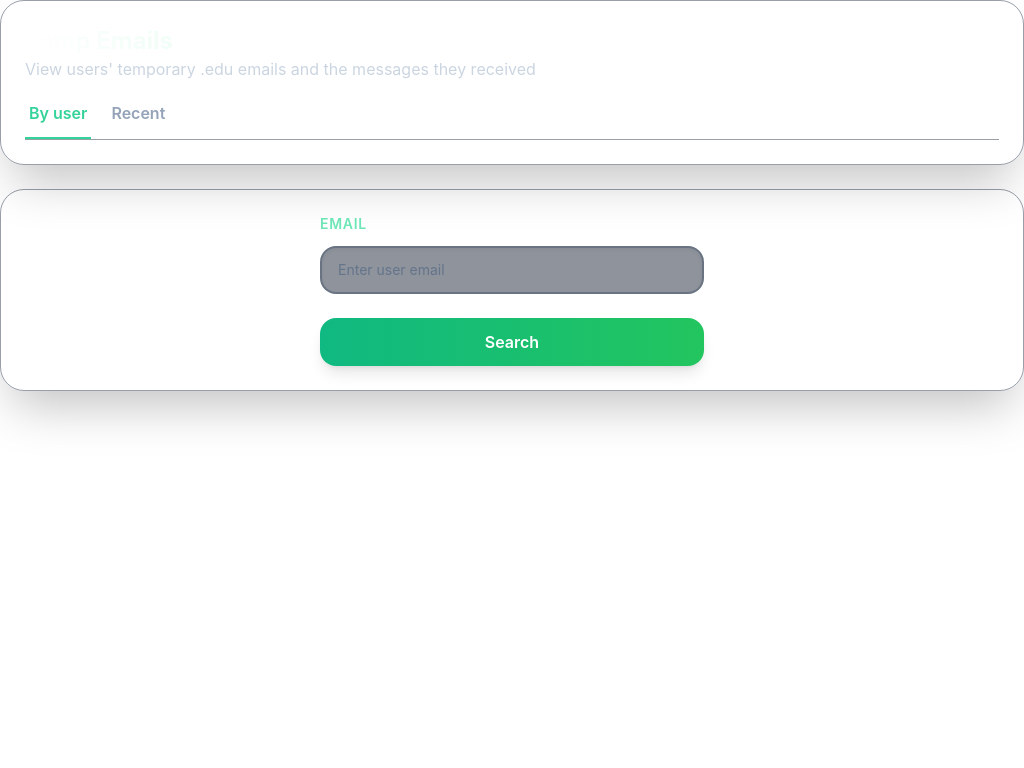
it: By user › expired and unavailable inboxes say why there are no messages
Type "student@example.com" into the field labelled "Email" at [512, 270], box x1=320 y1=246 x2=704 y2=294
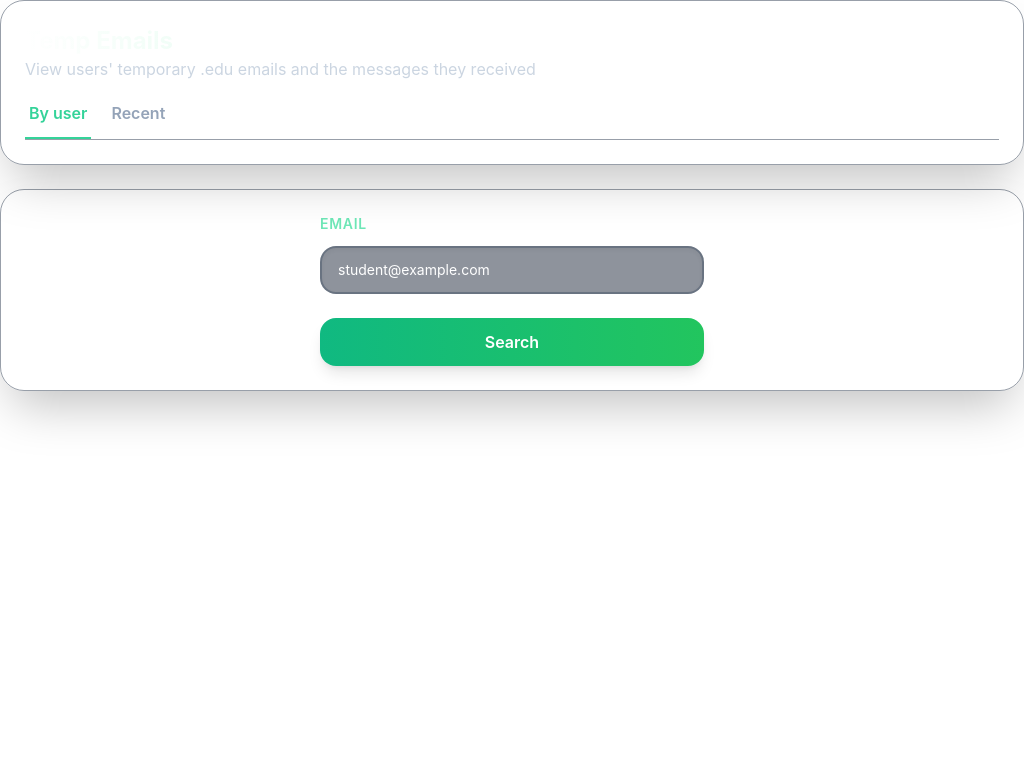
Click the button "Search" at [512, 342], box x1=320 y1=318 x2=704 y2=366
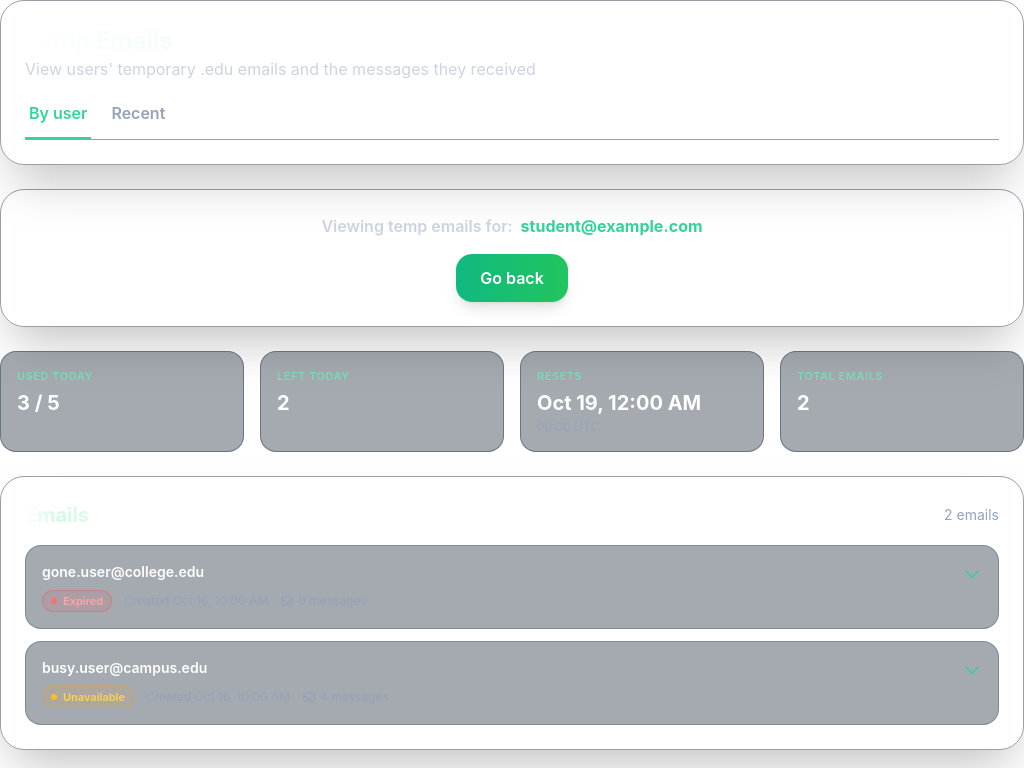
Click the button that starts with "gone.user@college.edu" at [123, 571], box x1=26 y1=546 x2=998 y2=628
(page scrolled)
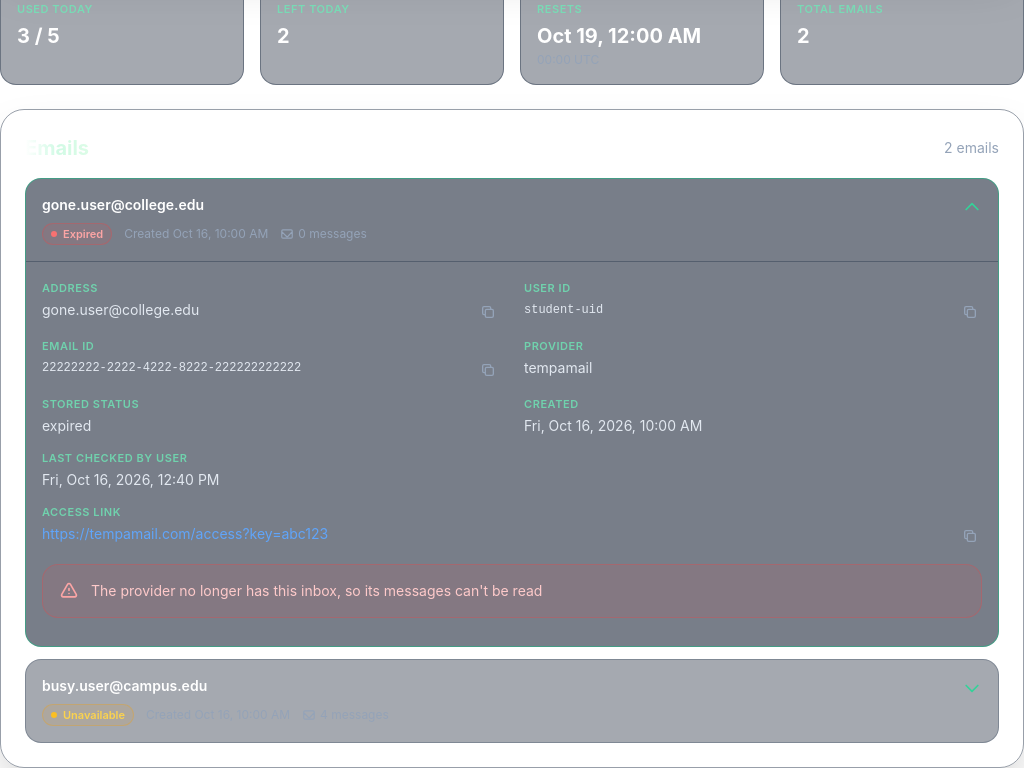
Expected: the text "no longer has this inbox" is shown, x1=91 y1=582 x2=542 y2=598
Click the button that starts with "busy.user@campus.edu" at [125, 685], box x1=26 y1=660 x2=998 y2=742
(page scrolled)
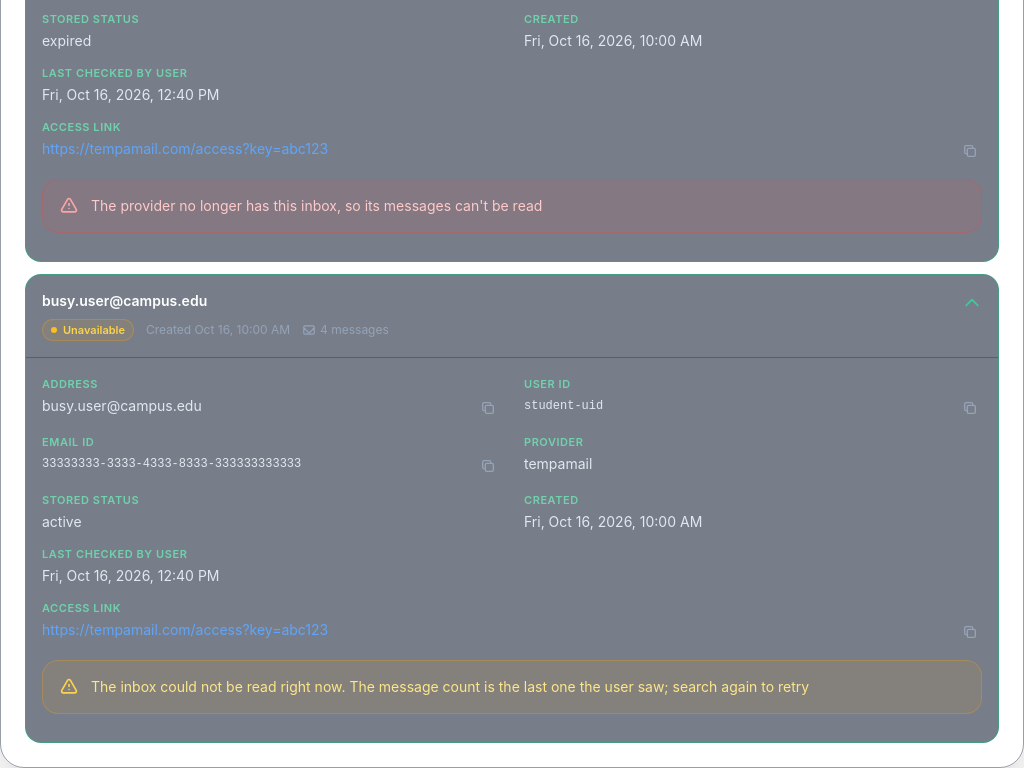
Expected: the text "could not be read right now" is shown, x1=91 y1=678 x2=809 y2=694
